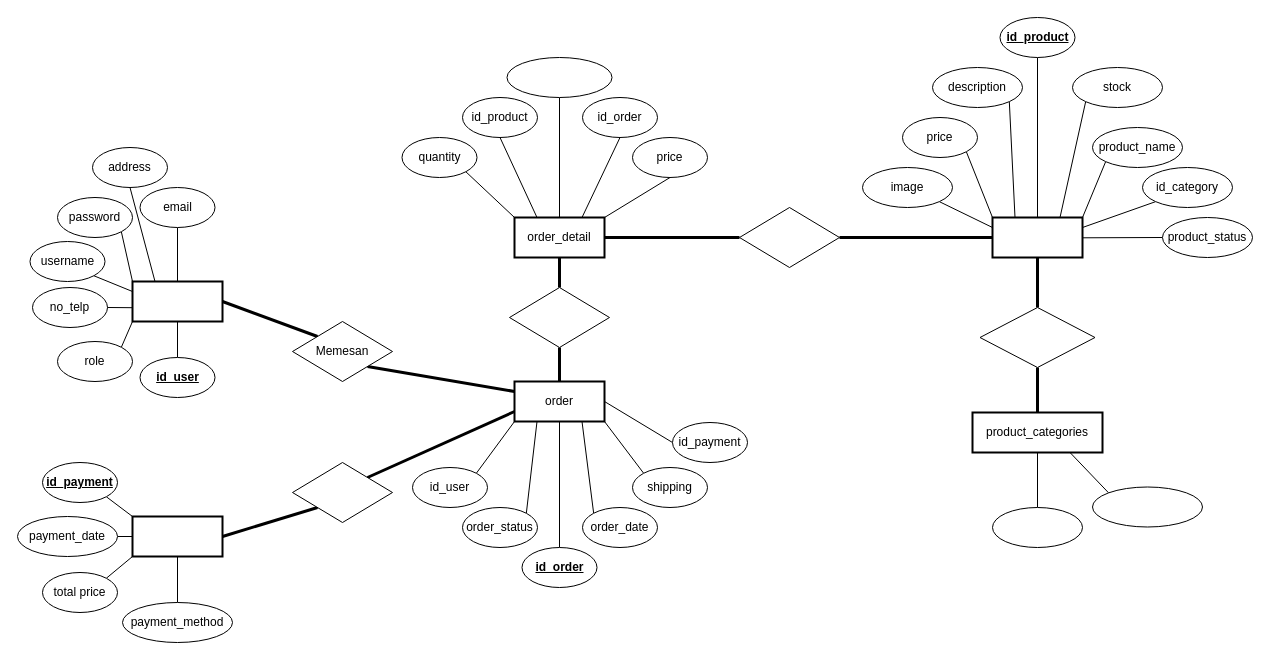
Some shapes in this 1270 by 660 pixel diagram are drawn without their labels. Here are the shapes that lost their labels. From the top down, the centre of each, then its label:
(x=559, y=77): id_order_detail
(x=789, y=237): Pesanan
(x=1037, y=237): product
(x=177, y=301): user
(x=559, y=317): Mempunyai
(x=1037, y=337): Mengelompokan
(x=342, y=492): Transaksi
(x=1147, y=506): name_categories
(x=177, y=536): payment
(x=1037, y=527): id_categories
